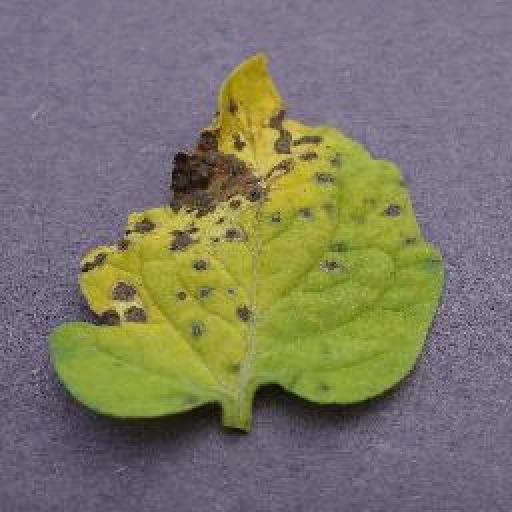disease_tomato: (51, 50, 447, 420)
